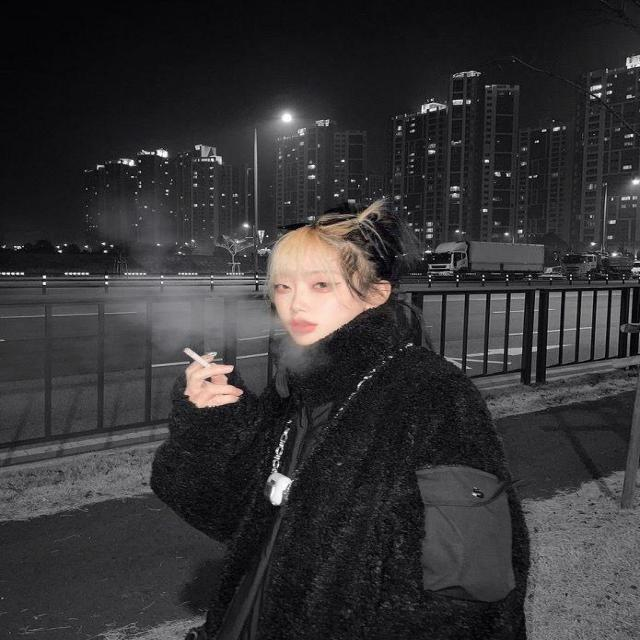cigarette: (166, 340, 235, 380)
